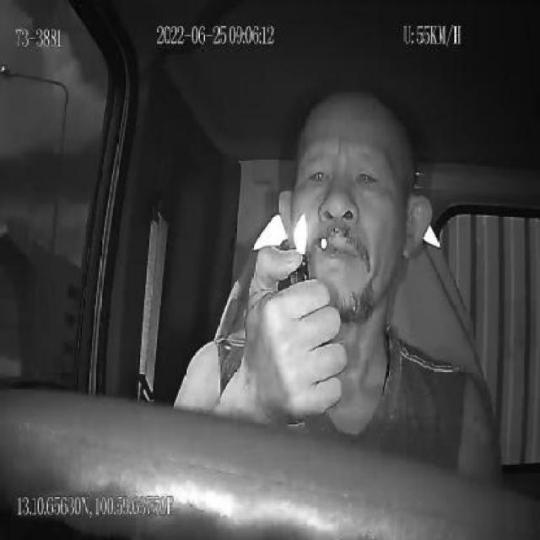smoking: (317, 234, 336, 254)
